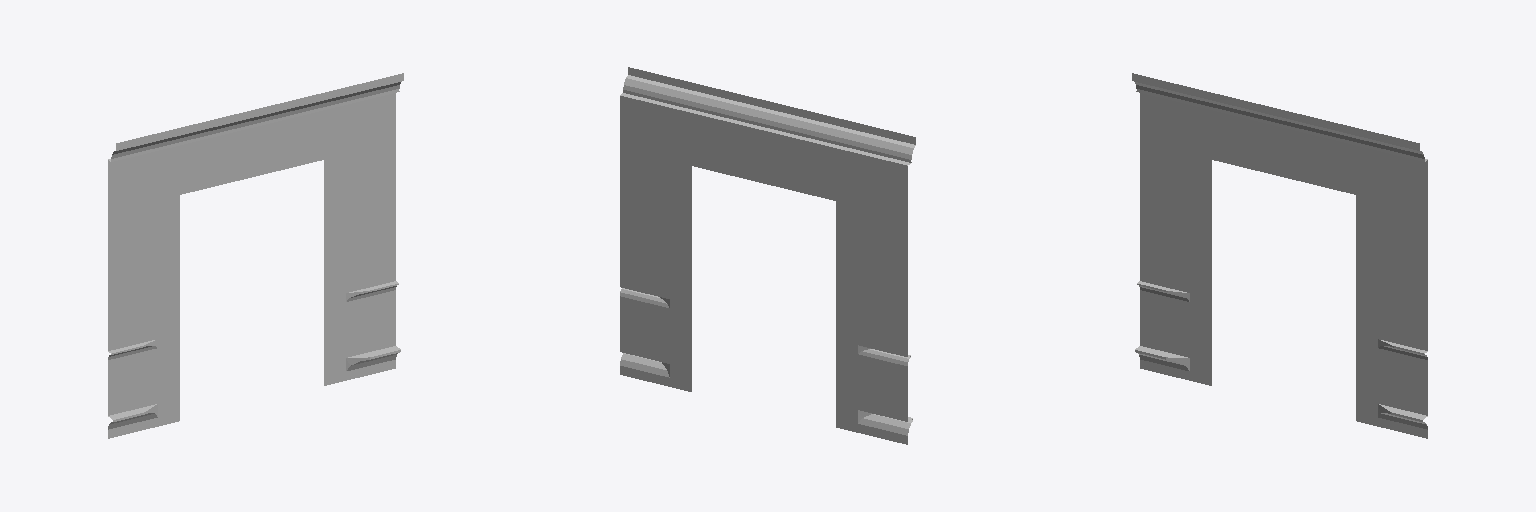
The model's file is mansion1_doorway.obj.
3 views of the same model, side by side, from view 1: azimuth 30°, elevation 25°; view 2: azimuth 150°, elevation 25°; view 3: azimuth 330°, elevation 25° (orthographic).
Parts seen in each view (by area): view 1: mansionbase_doorway; view 2: mansionbase_doorway; view 3: mansionbase_doorway.
Part boxes in pixels (bbox=[...]): mansionbase_doorway: bbox=[108, 73, 403, 438]; mansionbase_doorway: bbox=[620, 67, 915, 444]; mansionbase_doorway: bbox=[1132, 73, 1427, 438].
Size of the model in its own units: 4 by 4 by 0.2011.